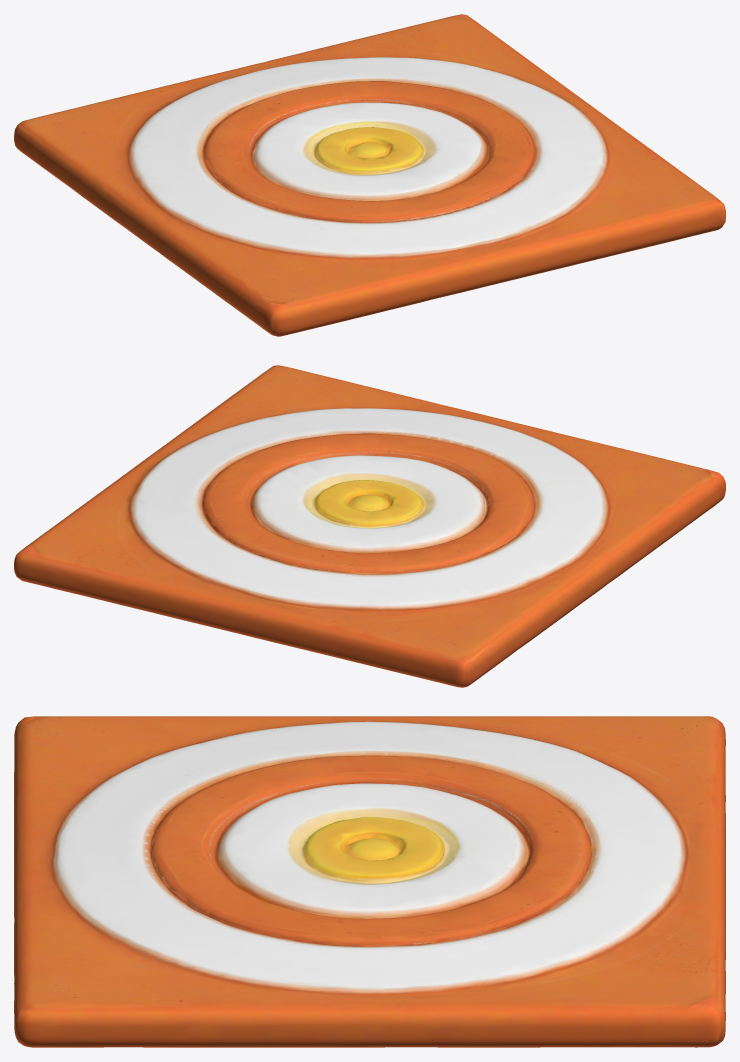
Rendered from target.glb.
The picture shows the model from 3 angles, top to bottom: view 1: azimuth 30°, elevation 25°; view 2: azimuth 150°, elevation 25°; view 3: azimuth 270°, elevation 25°; orthographic projection. The views are drawn at different scales.
Bounding box in the file's own units: 2 × 0.1841 × 2.
1 material, 1 textured.
